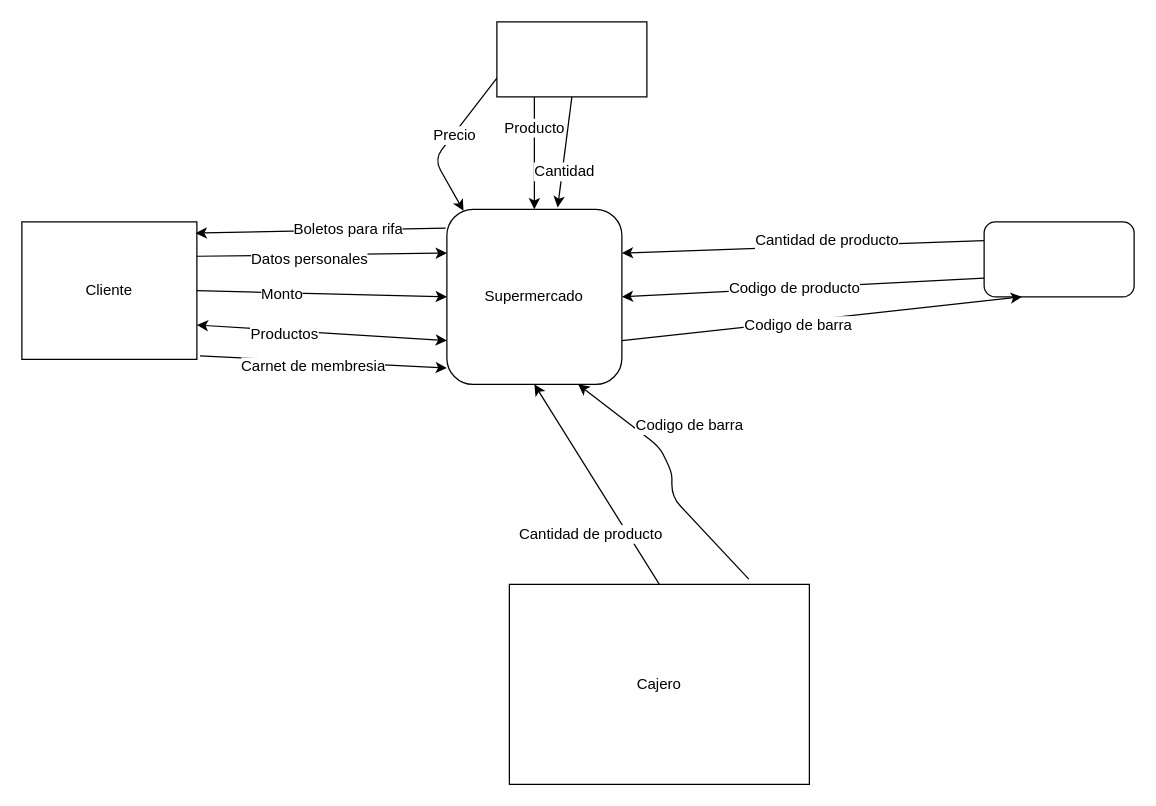
Some shapes in this 1156 by 806 pixel diagram are drawn without their labels. Here are the shapes that lost their labels. From the top down, the box of each, then its label:
(496, 21, 647, 97): Personal del almacen
(983, 221, 1134, 297): Empacador
